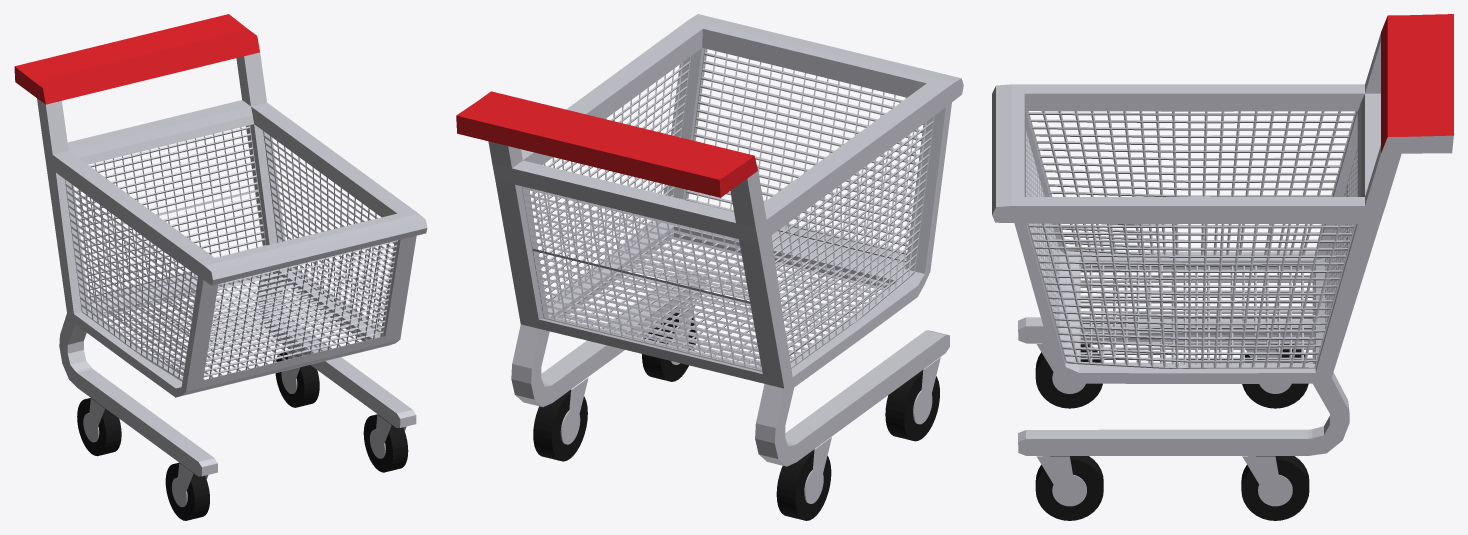
Rendered from Carrito.fbx.
The picture shows the model from 3 angles, left to right: view 1: azimuth 30°, elevation 25°; view 2: azimuth 150°, elevation 25°; view 3: azimuth 270°, elevation 25°; orthographic projection. The views are drawn at different scales.
Parts seen in each view (by area): view 1: Cube.002; view 2: Cube.002; view 3: Cube.002.
Part boxes in pixels (x1,y1,x2,y2): Cube.002: [14, 14, 427, 520]; Cube.002: [456, 14, 963, 520]; Cube.002: [992, 14, 1453, 520].
Size of the model in its own units: 50.19 by 80.23 by 73.94.
